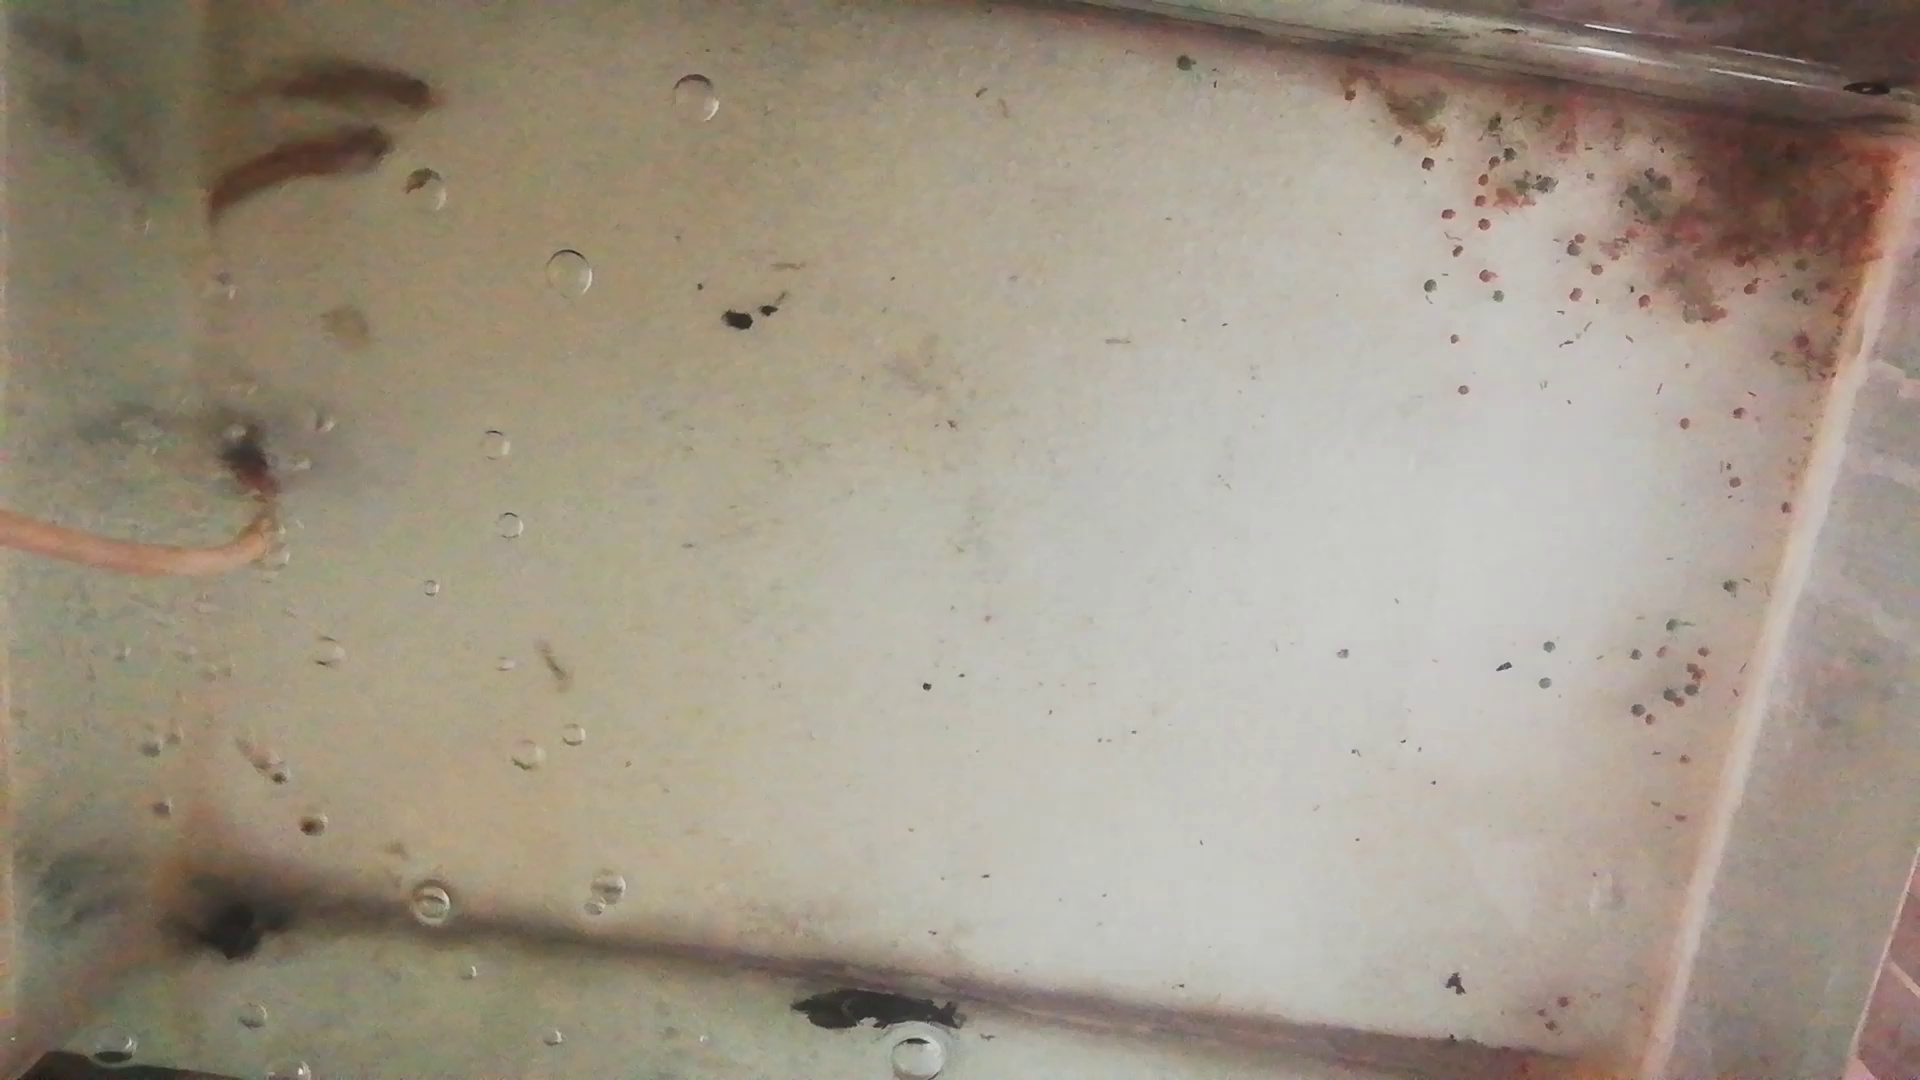fish: (204, 127, 397, 211), (214, 58, 444, 123)
